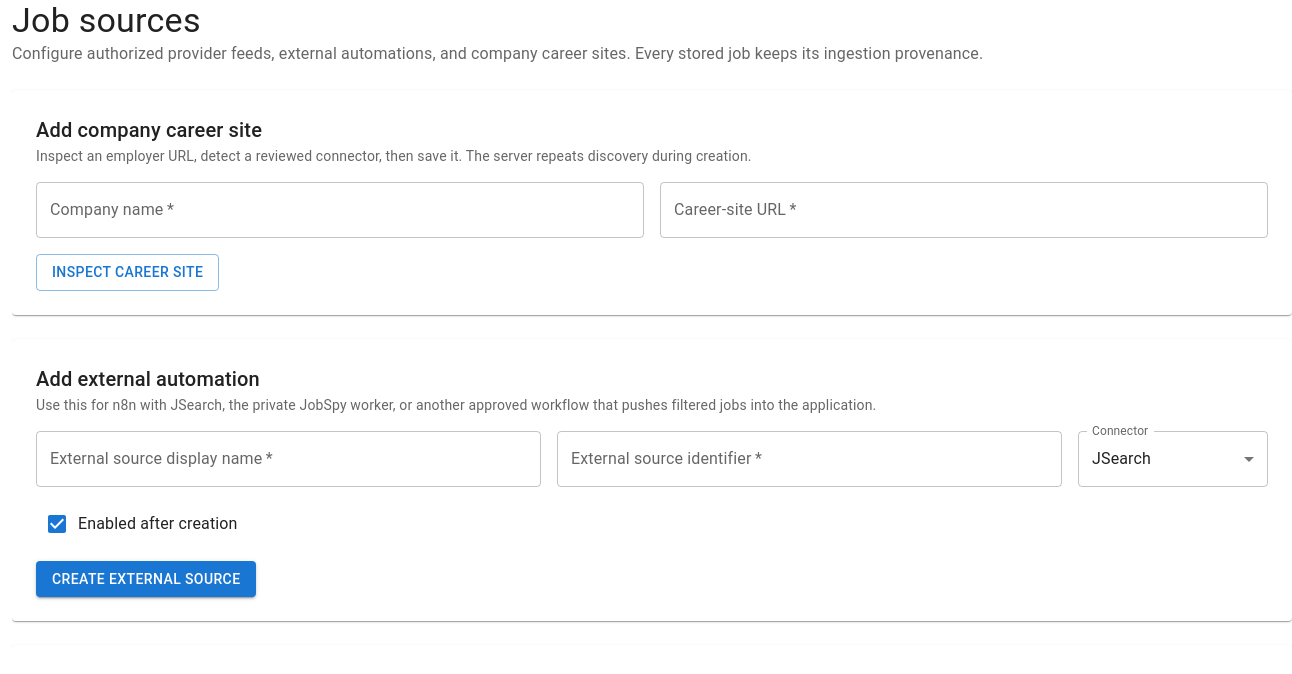
Test case: external automation sources › creates an external source and displays its token as a one-time secret
Type "LinkedIn through JSearch" into the field labelled "External source display name *".
click(288, 458); type("LinkedIn through JSearch")  # box [36, 430, 541, 486]
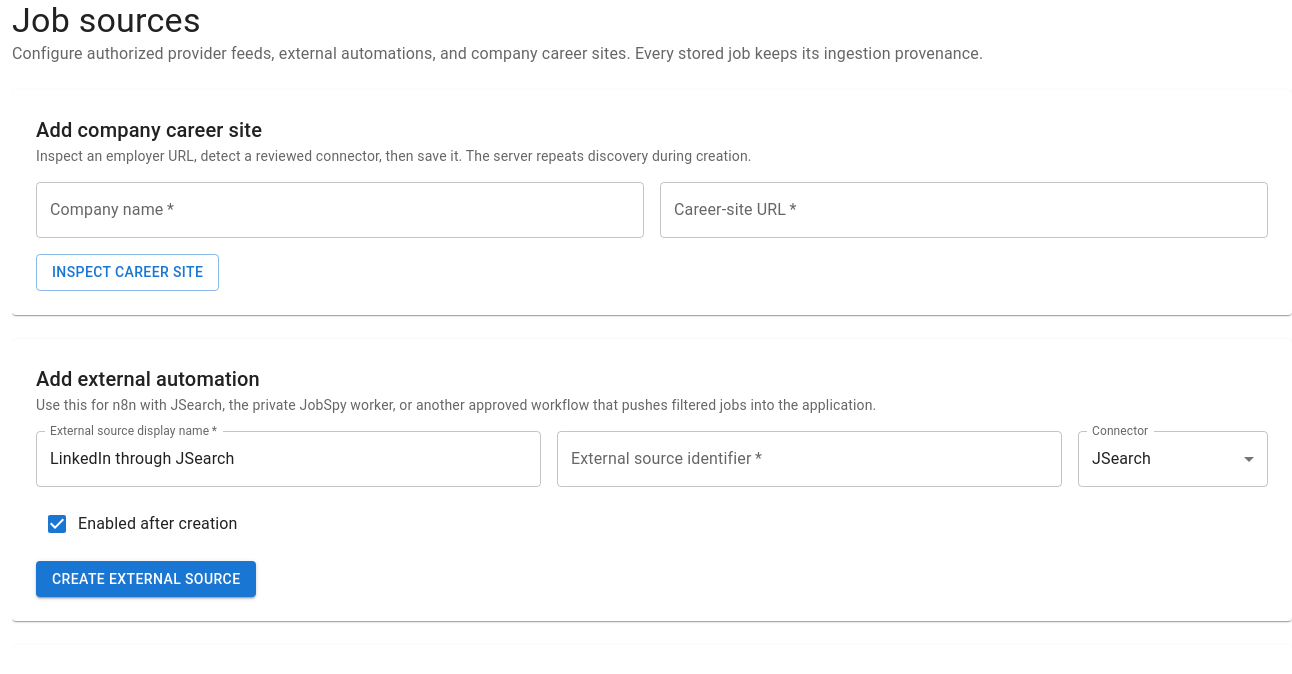
Type "linkedin-jsearch" into the field labelled "External source identifier *".
click(810, 458); type("linkedin-jsearch")  # box [557, 430, 1062, 486]
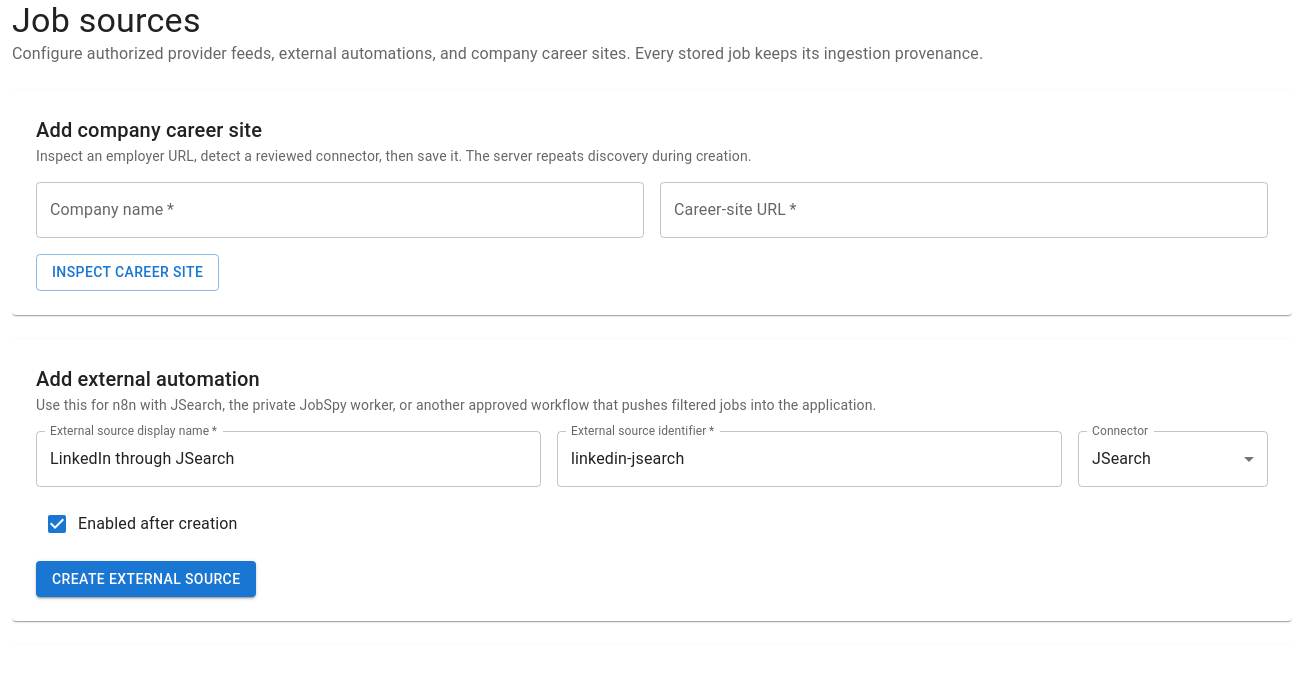
Click the button "Create external source".
click(146, 579)  # box [36, 560, 256, 597]
(page scrolled)
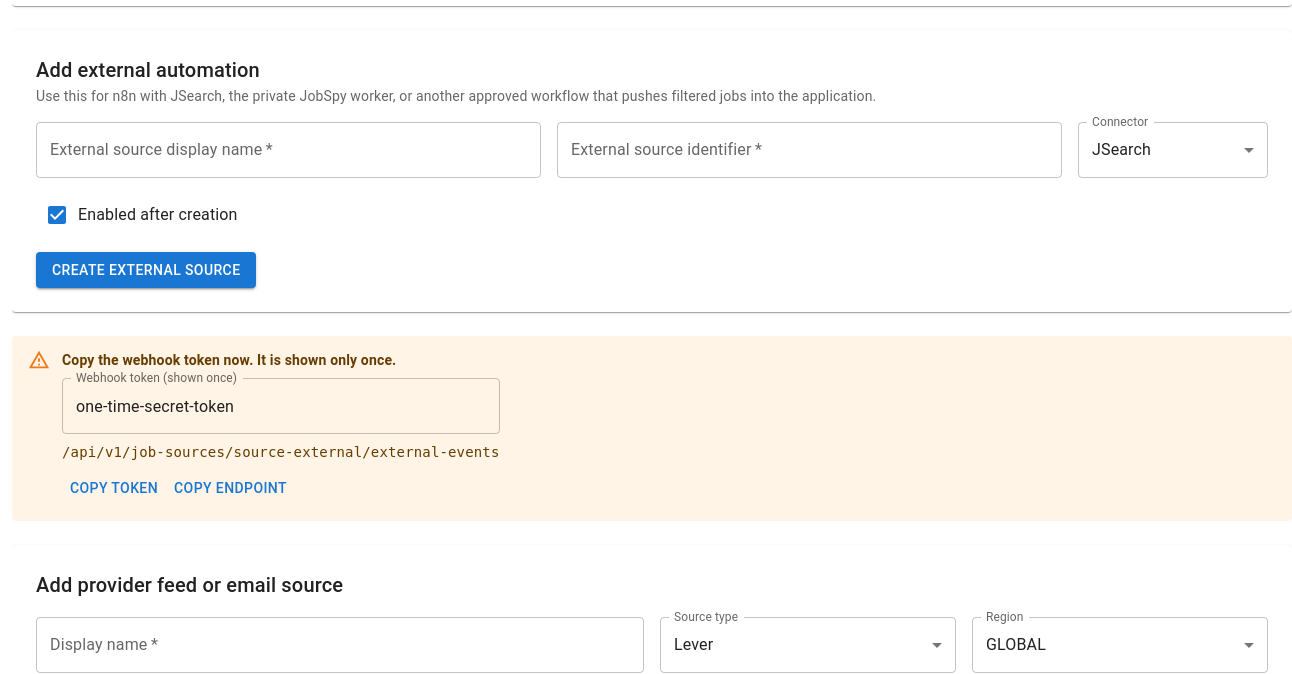
Now the field showing "one-time-secret-token" is shown, box [62, 378, 500, 434]
Now the text "Copy the webhook token now. It is shown only once." is shown, box [62, 352, 396, 368]
